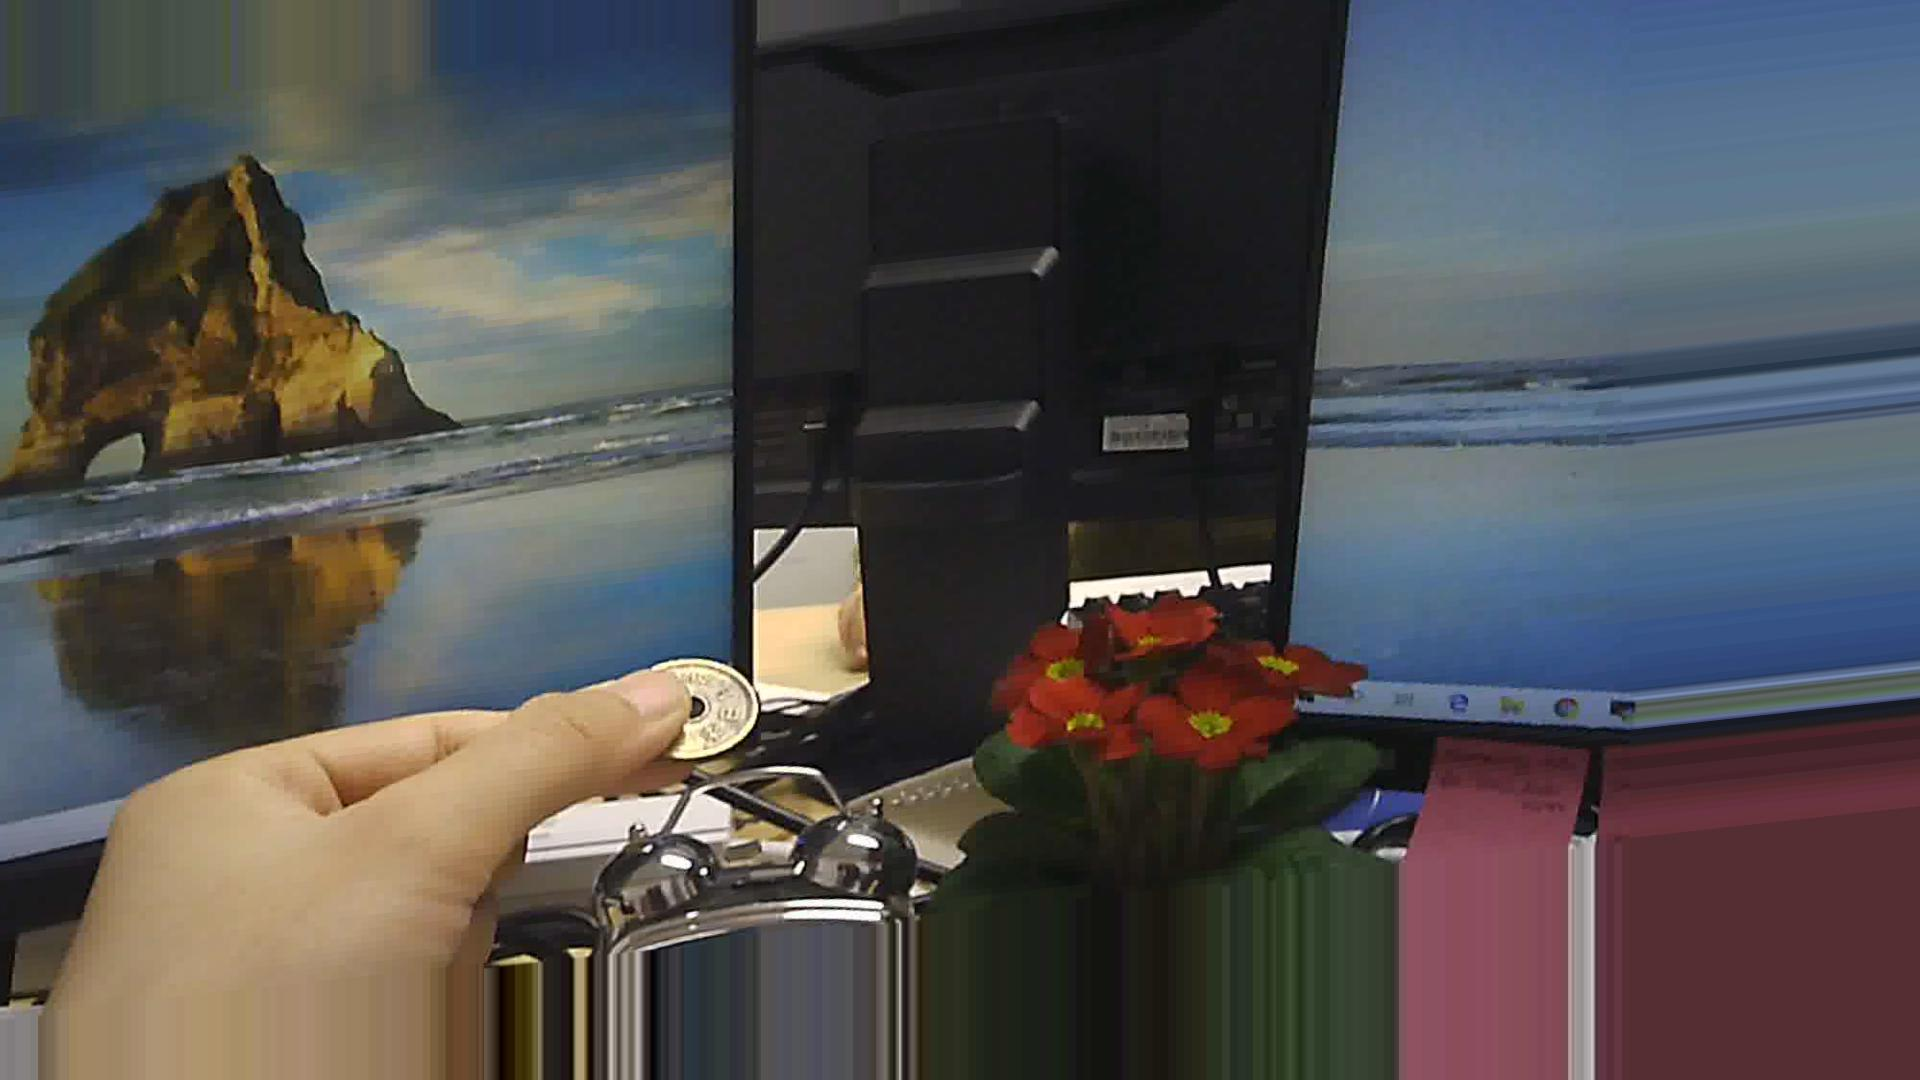5 Yen: (625, 653, 787, 767)
